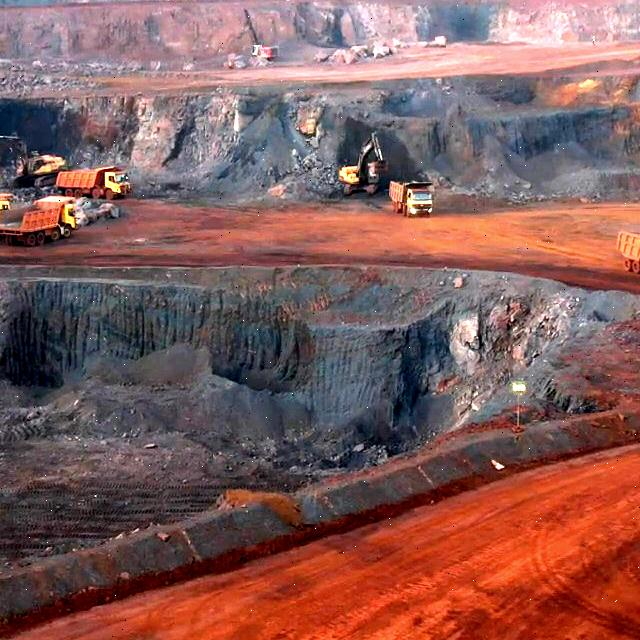Blast rig: (252, 42, 275, 59)
Dumper truck: (3, 210, 71, 239), (391, 183, 433, 215), (624, 234, 640, 274)
Excavator: (340, 160, 379, 194), (18, 156, 58, 186)
